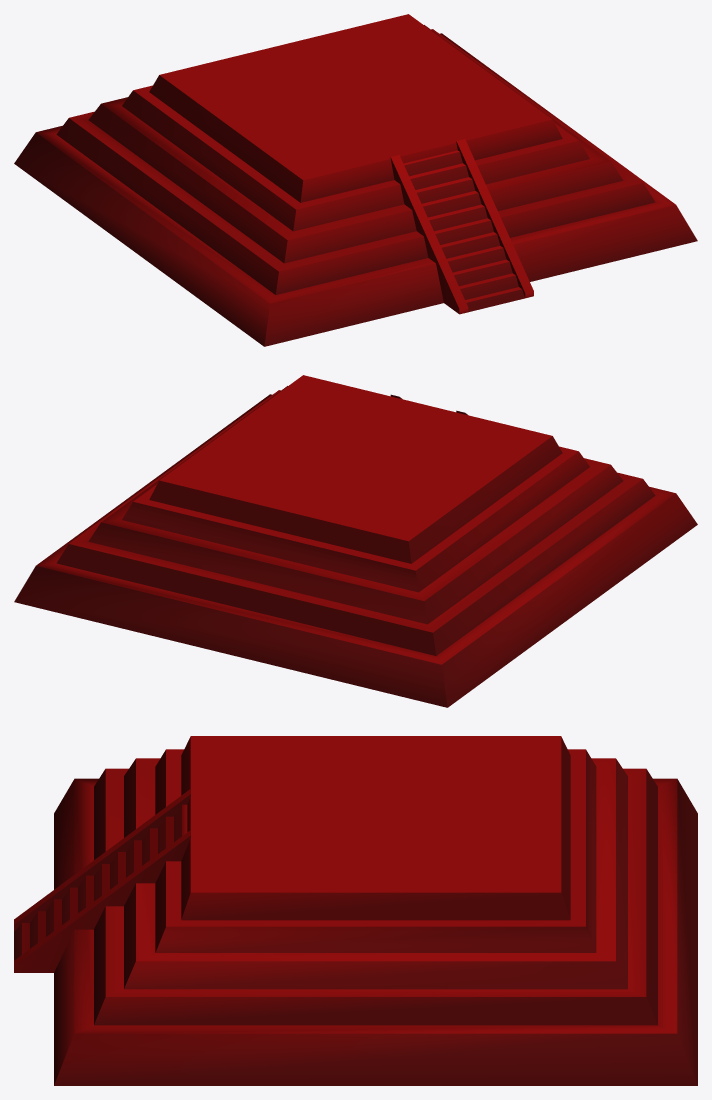
The model's file is buildings-historical-steppedpyramidsmall_v1.fbx.
3 views of the same model, one above another, from view 1: azimuth 30°, elevation 25°; view 2: azimuth 150°, elevation 25°; view 3: azimuth 270°, elevation 25° (orthographic). The views are drawn at different scales.
Parts seen in each view (by area): view 1: SteppedPyramidSmall.001; view 2: SteppedPyramidSmall.001; view 3: SteppedPyramidSmall.001.
Boxes of the visible parts, x1,y1,x2,y2 form: SteppedPyramidSmall.001: [14, 14, 697, 346]; SteppedPyramidSmall.001: [14, 375, 697, 707]; SteppedPyramidSmall.001: [14, 736, 697, 1085].
Size of the model in its own units: 28.68 by 6.77 by 30.46.
